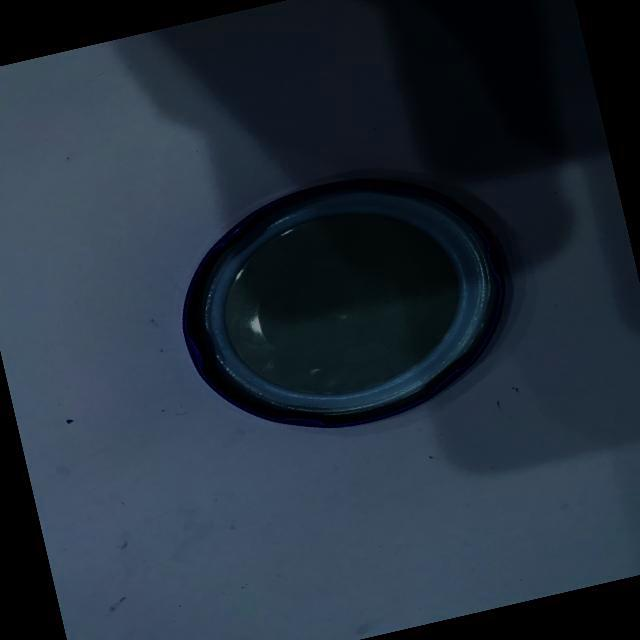metal: (148, 138, 544, 476)
